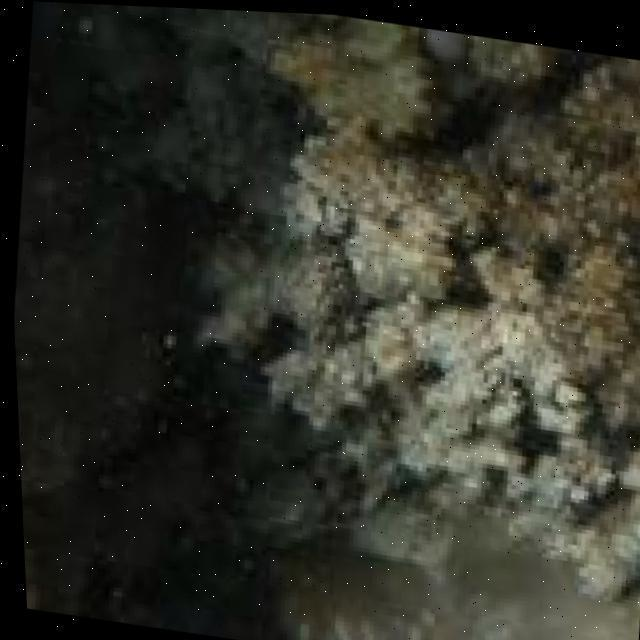Bleached Coral: (241, 195, 535, 526)
Healthy Coral: (500, 22, 640, 381)
